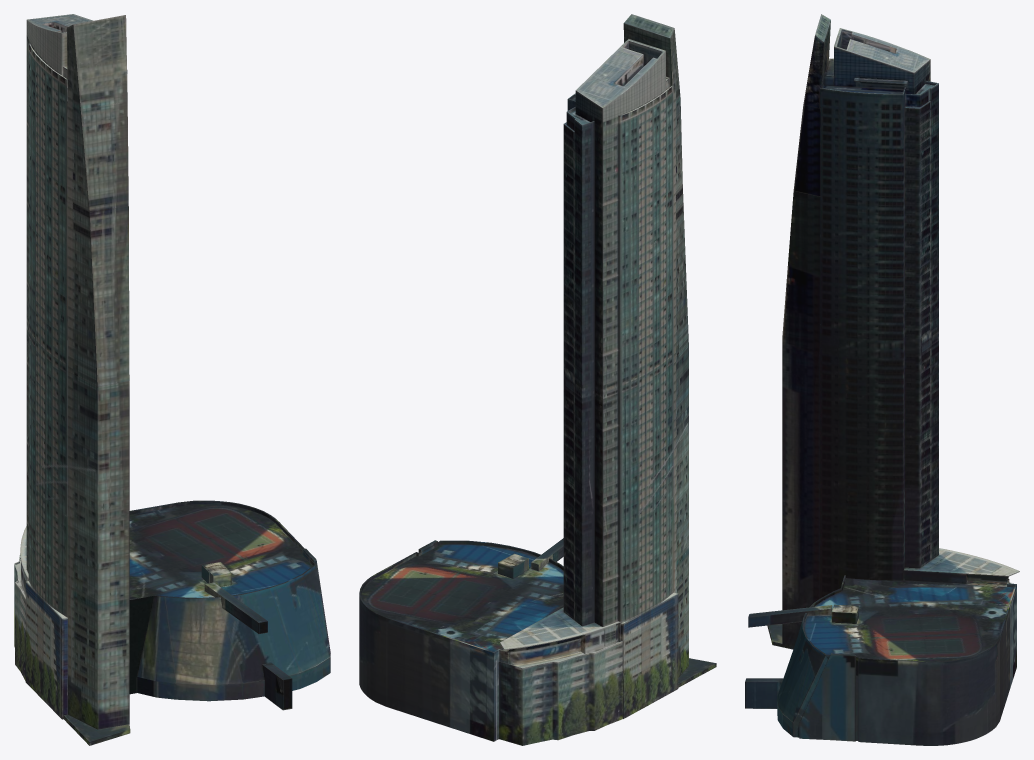
3 views of the same model, side by side, from view 1: azimuth 30°, elevation 25°; view 2: azimuth 150°, elevation 25°; view 3: azimuth 270°, elevation 25° (orthographic). The views are drawn at different scales.
Visible parts, largest first — view 1: 16_0.glb; view 2: 16_0.glb; view 3: 16_0.glb.
Part boxes in pixels (<box>): 16_0.glb: <box>14,14,330,745</box>; 16_0.glb: <box>359,14,716,745</box>; 16_0.glb: <box>745,14,1019,745</box>.
Bounding box in the file's own units: 89.8 × 216 × 87.13.
Materials: 2 (2 with a texture image).
